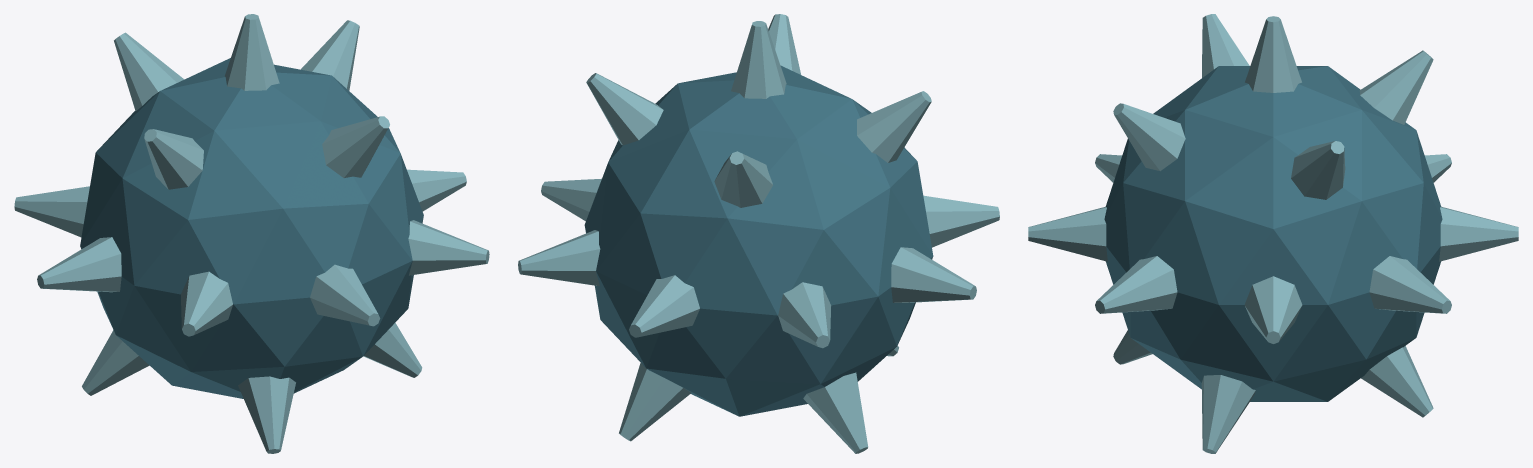
The model's file is spike_mine_teal.glb.
3 renders of one model, left to right at view 1: azimuth 30°, elevation 25°; view 2: azimuth 150°, elevation 25°; view 3: azimuth 270°, elevation 25°, orthographic.
Visible parts, largest first — view 1: ball, spike4, spike14, spike7, spike6, spike16, spike11, spike10, spike5, spike9, spike3, spike8 (+3 smaller); view 2: ball, spike4, spike10, spike1, spike2, spike8, spike13, spike16, spike12, spike3, spike5, spike9 (+2 smaller); view 3: ball, spike1, spike7, spike11, spike16, spike15, spike2, spike6, spike9, spike0, spike8, spike12 (+4 smaller).
Boxes of the visible parts, x1=… form: ball: x1=80, y1=58, x2=423, y2=398; spike4: x1=37, y1=237, x2=121, y2=292; spike14: x1=238, y1=376, x2=295, y2=453; spike7: x1=408, y1=220, x2=489, y2=275; spike6: x1=310, y1=264, x2=380, y2=326; spike16: x1=225, y1=14, x2=279, y2=90; spike11: x1=322, y1=116, x2=389, y2=177; spike10: x1=144, y1=129, x2=203, y2=189; spike5: x1=181, y1=271, x2=232, y2=336; spike9: x1=114, y1=32, x2=184, y2=110; spike3: x1=14, y1=186, x2=89, y2=237; spike8: x1=301, y1=20, x2=359, y2=90; ball: x1=584, y1=65, x2=933, y2=416; spike4: x1=891, y1=247, x2=976, y2=302; spike10: x1=857, y1=91, x2=931, y2=162; spike1: x1=518, y1=230, x2=600, y2=286; spike2: x1=629, y1=275, x2=699, y2=337; spike8: x1=586, y1=73, x2=663, y2=145; spike13: x1=803, y1=372, x2=868, y2=453; spike16: x1=731, y1=21, x2=786, y2=98; spike12: x1=619, y1=363, x2=691, y2=441; spike3: x1=778, y1=282, x2=831, y2=348; spike5: x1=923, y1=195, x2=999, y2=247; spike9: x1=714, y1=151, x2=772, y2=207; ball: x1=1104, y1=66, x2=1442, y2=401; spike1: x1=1369, y1=256, x2=1451, y2=313; spike7: x1=1095, y1=256, x2=1177, y2=313; spike11: x1=1113, y1=103, x2=1185, y2=171; spike16: x1=1245, y1=16, x2=1301, y2=92; spike15: x1=1201, y1=375, x2=1255, y2=453; spike2: x1=1439, y1=206, x2=1518, y2=261; spike6: x1=1028, y1=206, x2=1107, y2=261; spike9: x1=1359, y1=50, x2=1433, y2=124; spike0: x1=1244, y1=276, x2=1302, y2=343; spike8: x1=1291, y1=141, x2=1345, y2=199; spike12: x1=1361, y1=346, x2=1433, y2=417.
Size of the model in its own units: 23.6 by 19.9 by 23.6.
